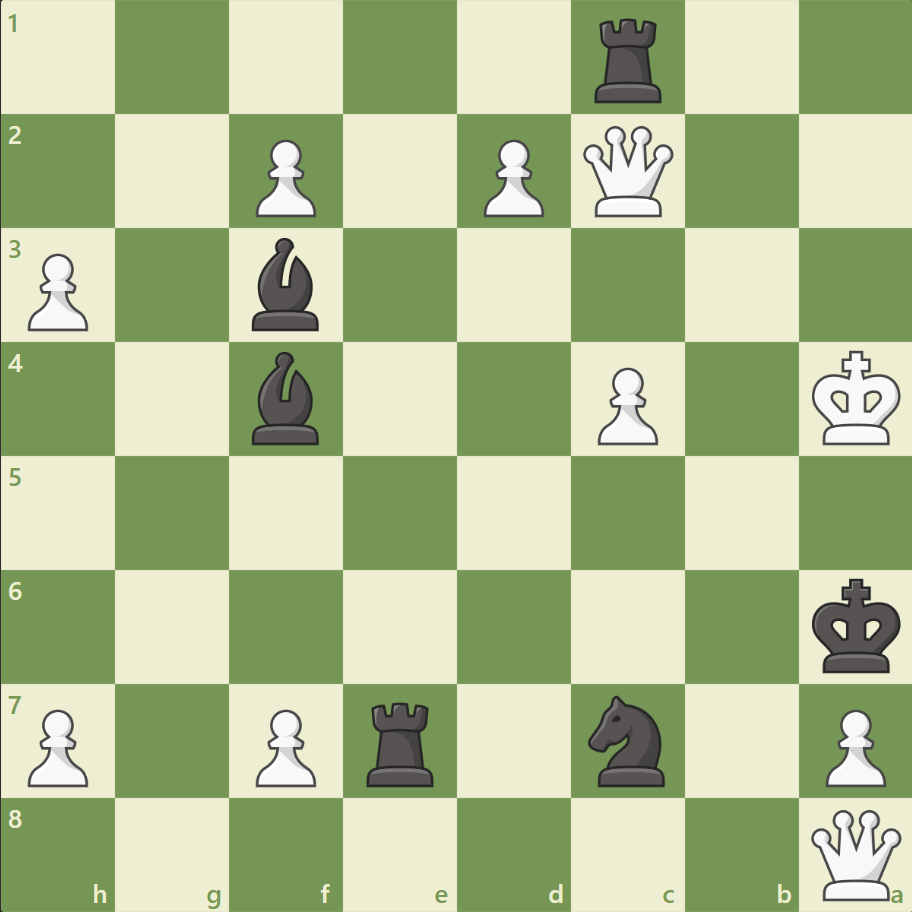K: (806, 344, 906, 452)
P: (247, 700, 322, 791), (20, 700, 95, 791), (20, 246, 95, 337), (474, 132, 549, 223), (247, 132, 322, 223), (815, 700, 889, 791), (588, 359, 662, 450)
Q: (578, 122, 677, 222), (805, 804, 904, 903)
b: (244, 233, 328, 336), (244, 347, 328, 449)
k: (806, 571, 906, 679)
n: (579, 688, 676, 791)
r: (587, 12, 670, 109), (360, 693, 442, 790)
